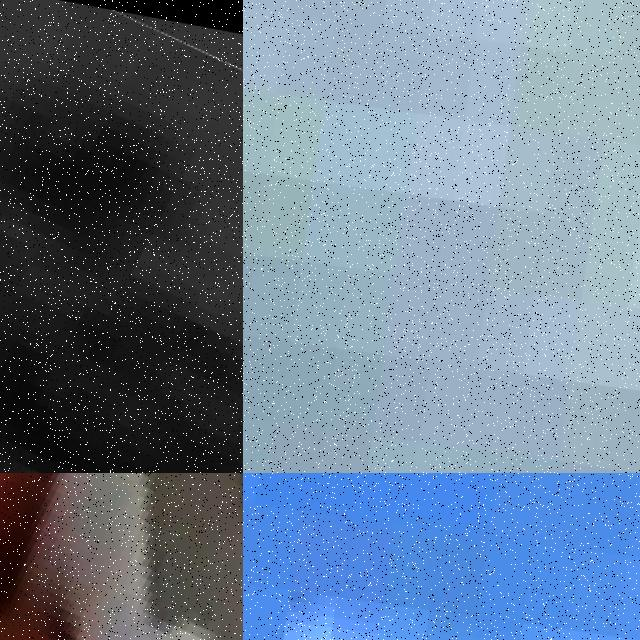0: (0, 0, 243, 473)
drone: (0, 473, 243, 640)
